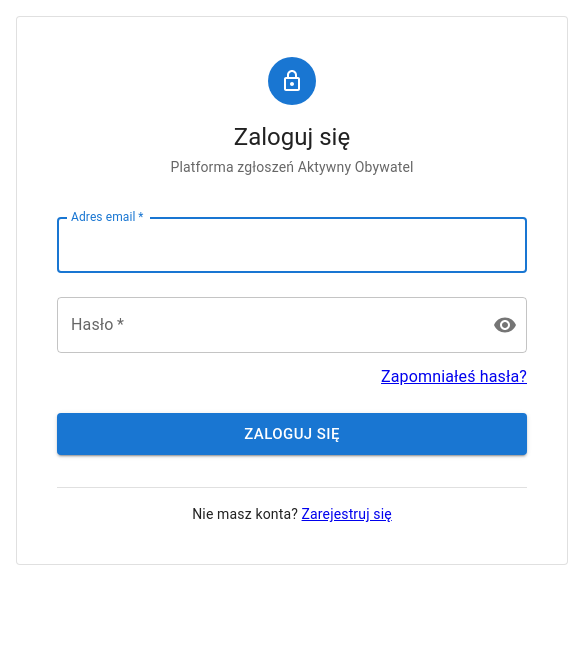
Test case: LoginPage Component › displays API error feedback message on rejection
This screenshot has width=585, height=646.
Type "error@test.pl" into the field labelled "Adres email *" at (292, 245), box [57,217,527,273]
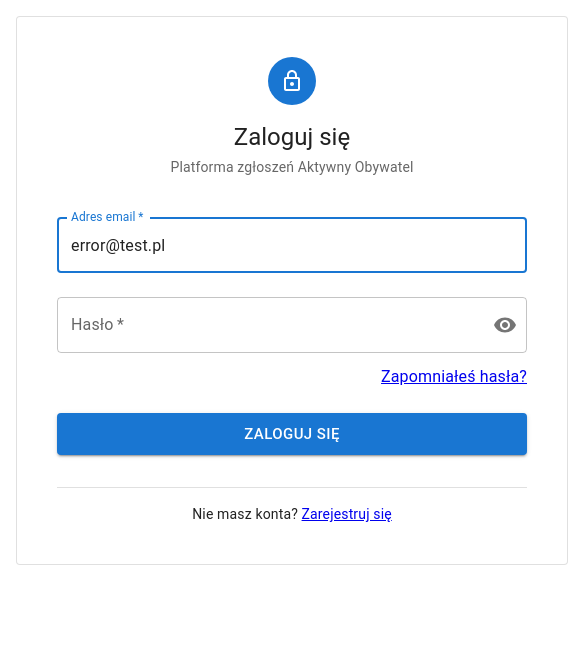
Type "wrong" into the password field labelled "Hasło *" at (267, 325), box [57,297,477,353]
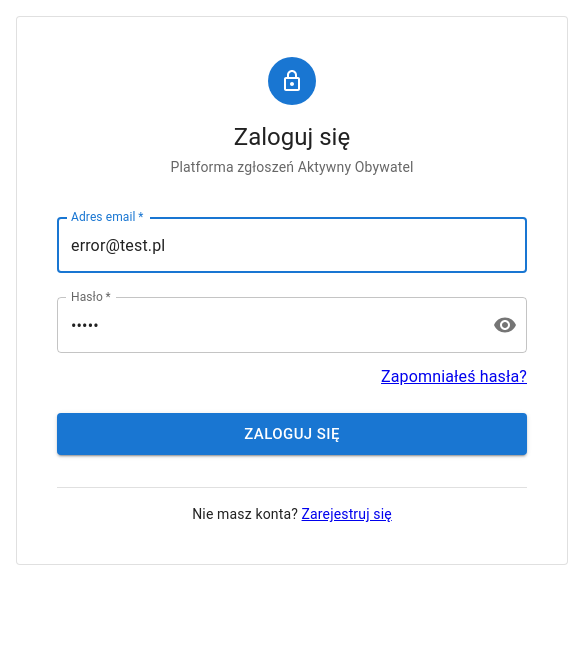
Click the button "Zaloguj się" at (292, 434), box [57,413,527,455]
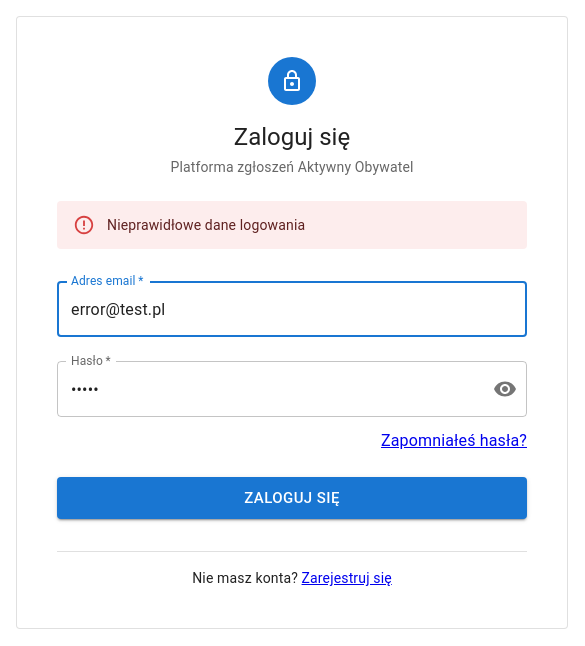
Expected: the text "Nieprawidłowe dane logowania" is shown, [107,217,305,233]
